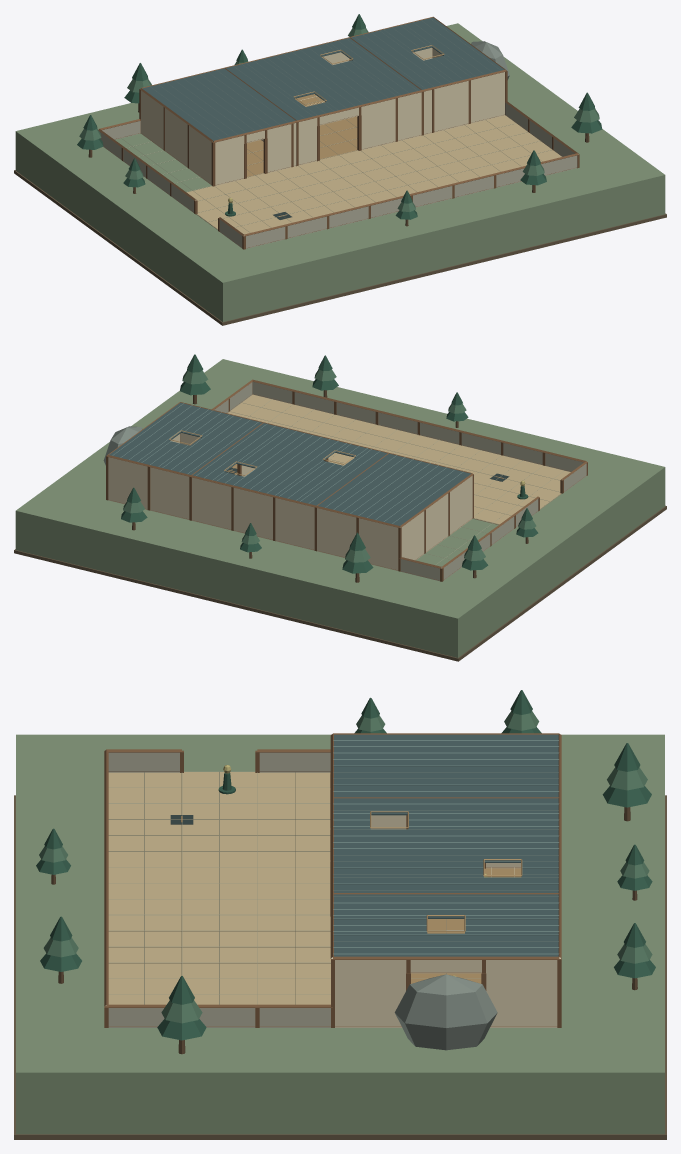
The model's file is root-house.obj.
The picture shows the model from 3 angles, top to bottom: view 1: azimuth 30°, elevation 25°; view 2: azimuth 150°, elevation 25°; view 3: azimuth 270°, elevation 25°; orthographic projection. The views are drawn at different scales.
Parts seen in each view (by area): view 1: ground, walls, roofs, vegetation, grid, details; view 2: ground, walls, roofs, vegetation, grid, details; view 3: ground, roofs, walls, vegetation, details, grid.
Part boxes in pixels (x1,y1,x2,y2): ground: (14, 23, 666, 325); walls: (98, 16, 579, 249); roofs: (142, 17, 504, 143); vegetation: (77, 14, 602, 226); grid: (121, 95, 552, 232); details: (273, 41, 509, 219); ground: (14, 359, 666, 661); walls: (106, 379, 587, 581); roofs: (109, 402, 470, 526); vegetation: (121, 354, 538, 582); grid: (228, 399, 564, 564); details: (103, 426, 509, 481); ground: (14, 734, 666, 1139); roofs: (330, 734, 558, 973); walls: (104, 733, 561, 1027); vegetation: (36, 690, 655, 1054); details: (170, 815, 514, 1050); grid: (108, 771, 521, 1004).
Bounding box in the file's own units: 106 × 21.02 × 86.5.
